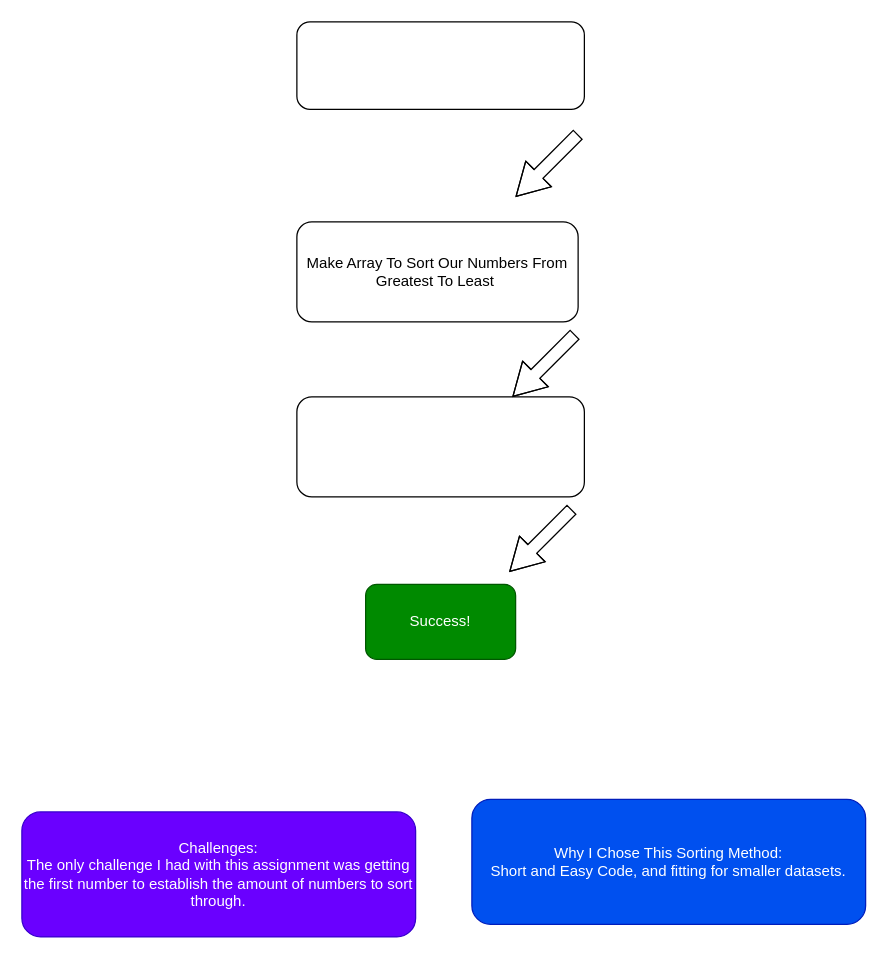
The diagram is 888 pixels wide and 959 high, and some of its shapes have lost their labels. Here are the shapes that lost their labels. From the top down, the centre of each, then its label:
At [440,65]: "Make System To Determine How Many Numbers Our Code Will Sort Through".
At [440,446]: "Test The Code And See If We Get the Correct Output.".
